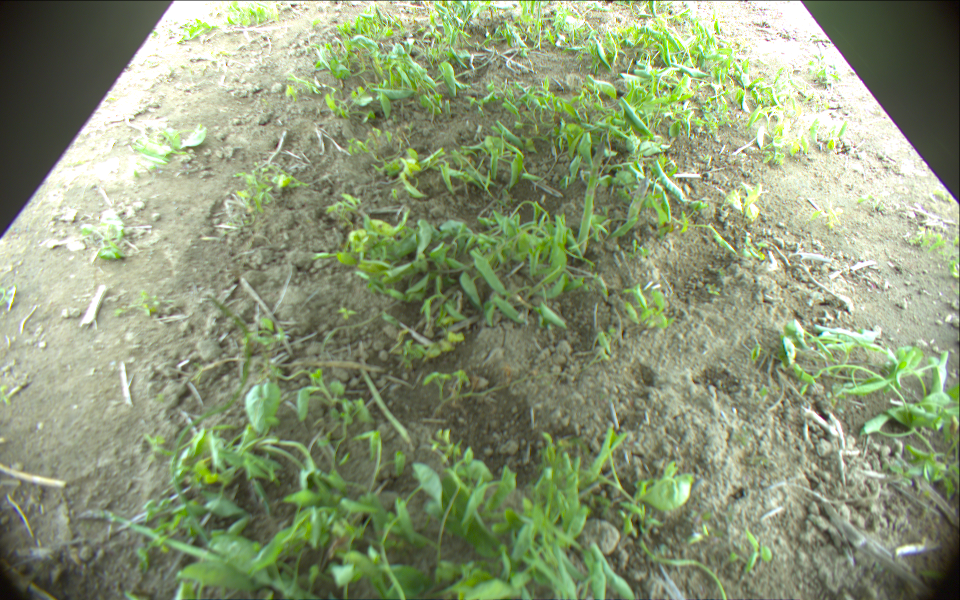aspa: (79, 508, 321, 600), (573, 131, 609, 261), (628, 177, 652, 224)
